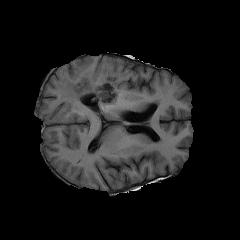glioma: (60, 64, 128, 118)
